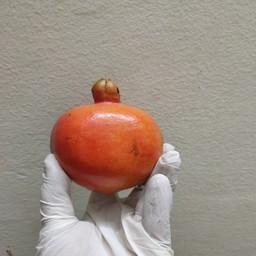pomegranate: (50, 78, 164, 193)
